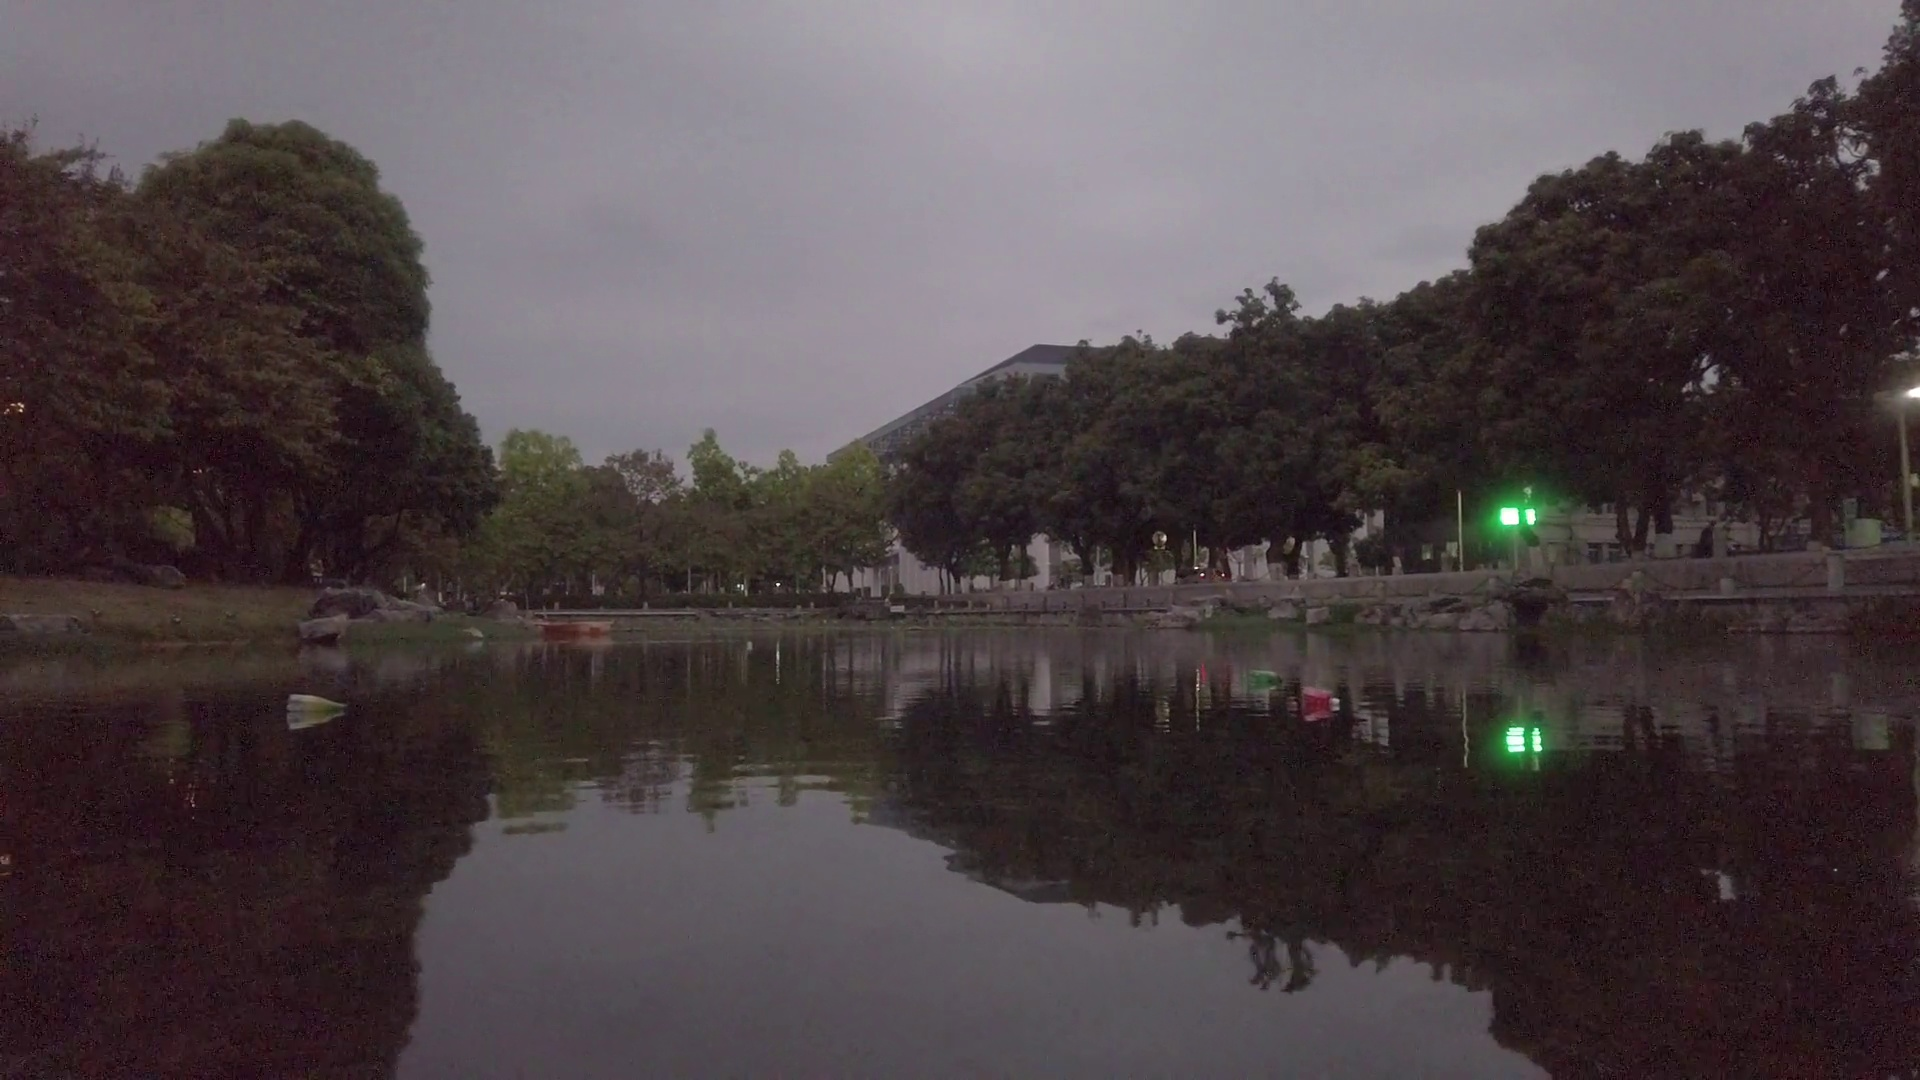bottle: (282, 695, 344, 713), (1302, 684, 1342, 712), (1246, 669, 1284, 687)
